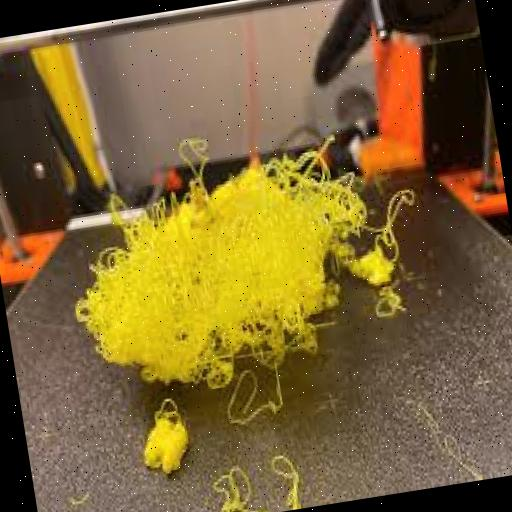spaghetti: (48, 80, 471, 512)
